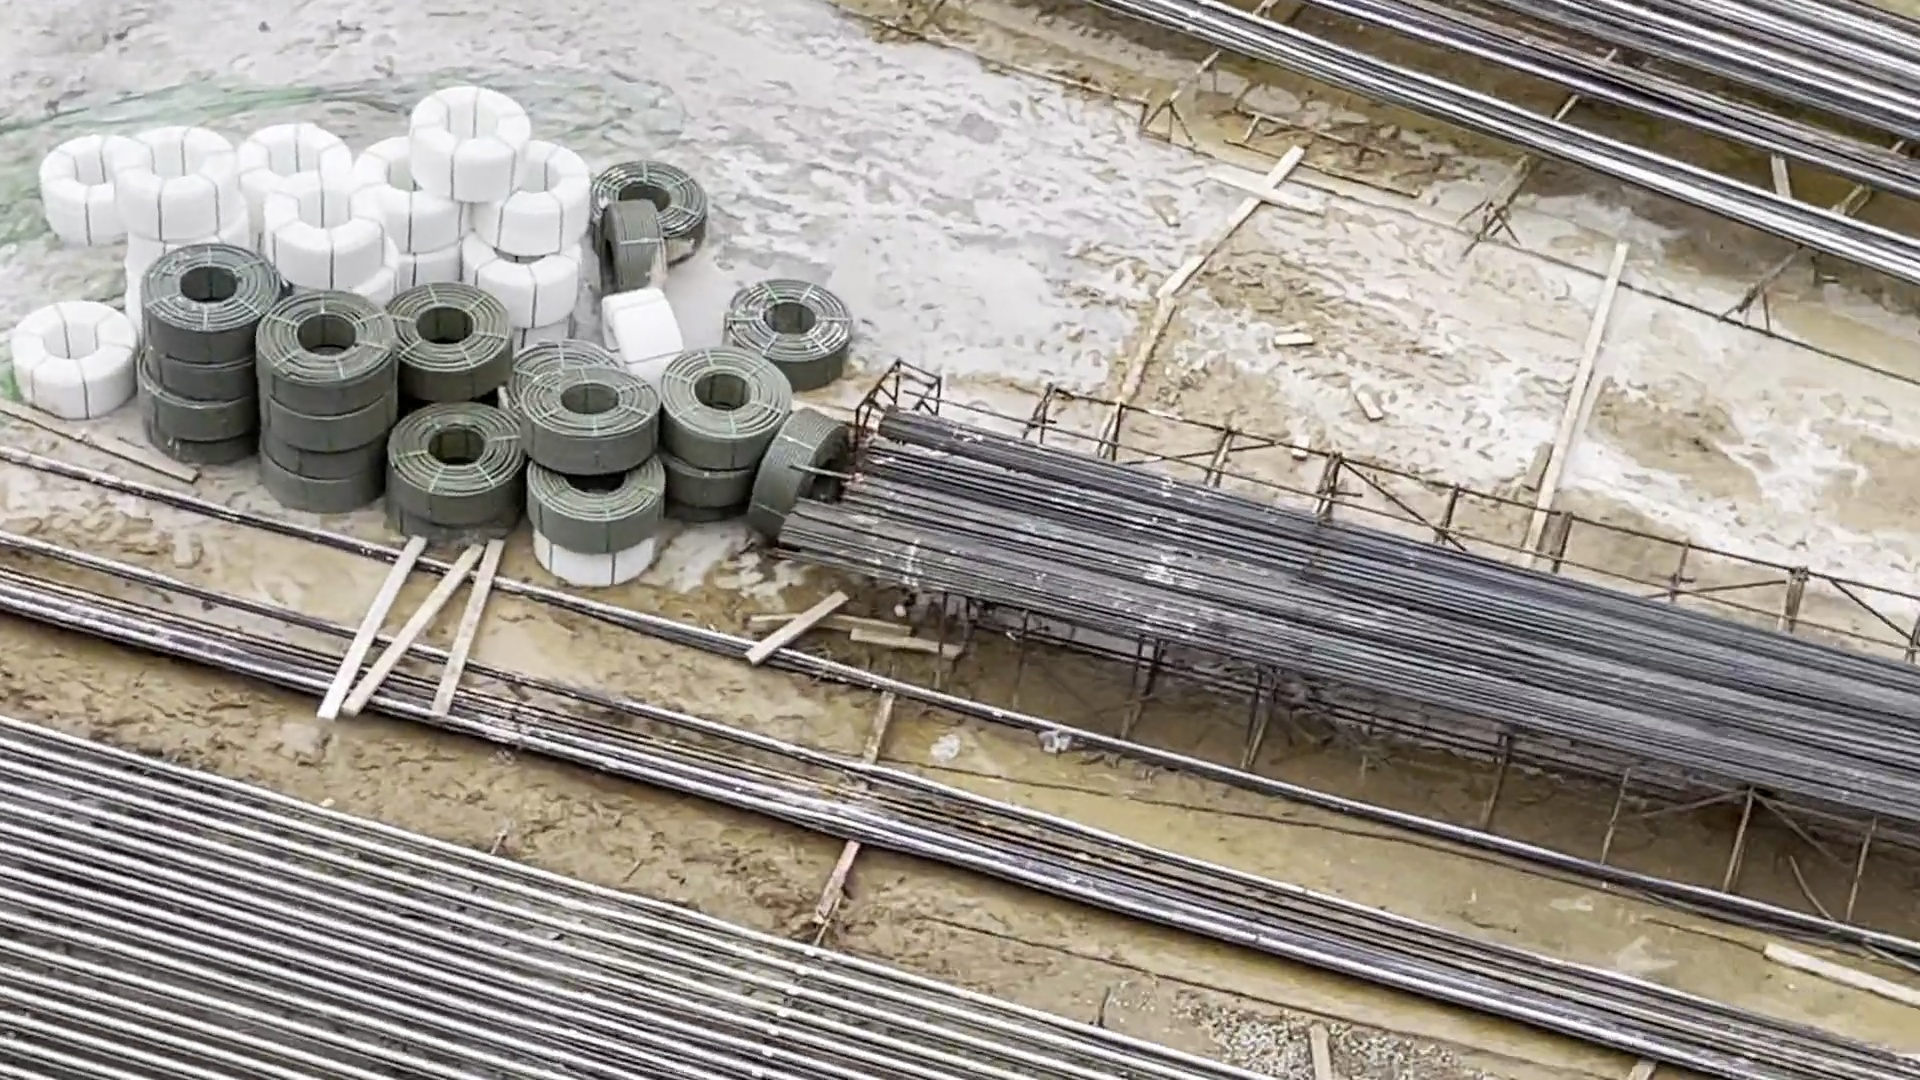rebar: (774, 392, 1920, 781)
